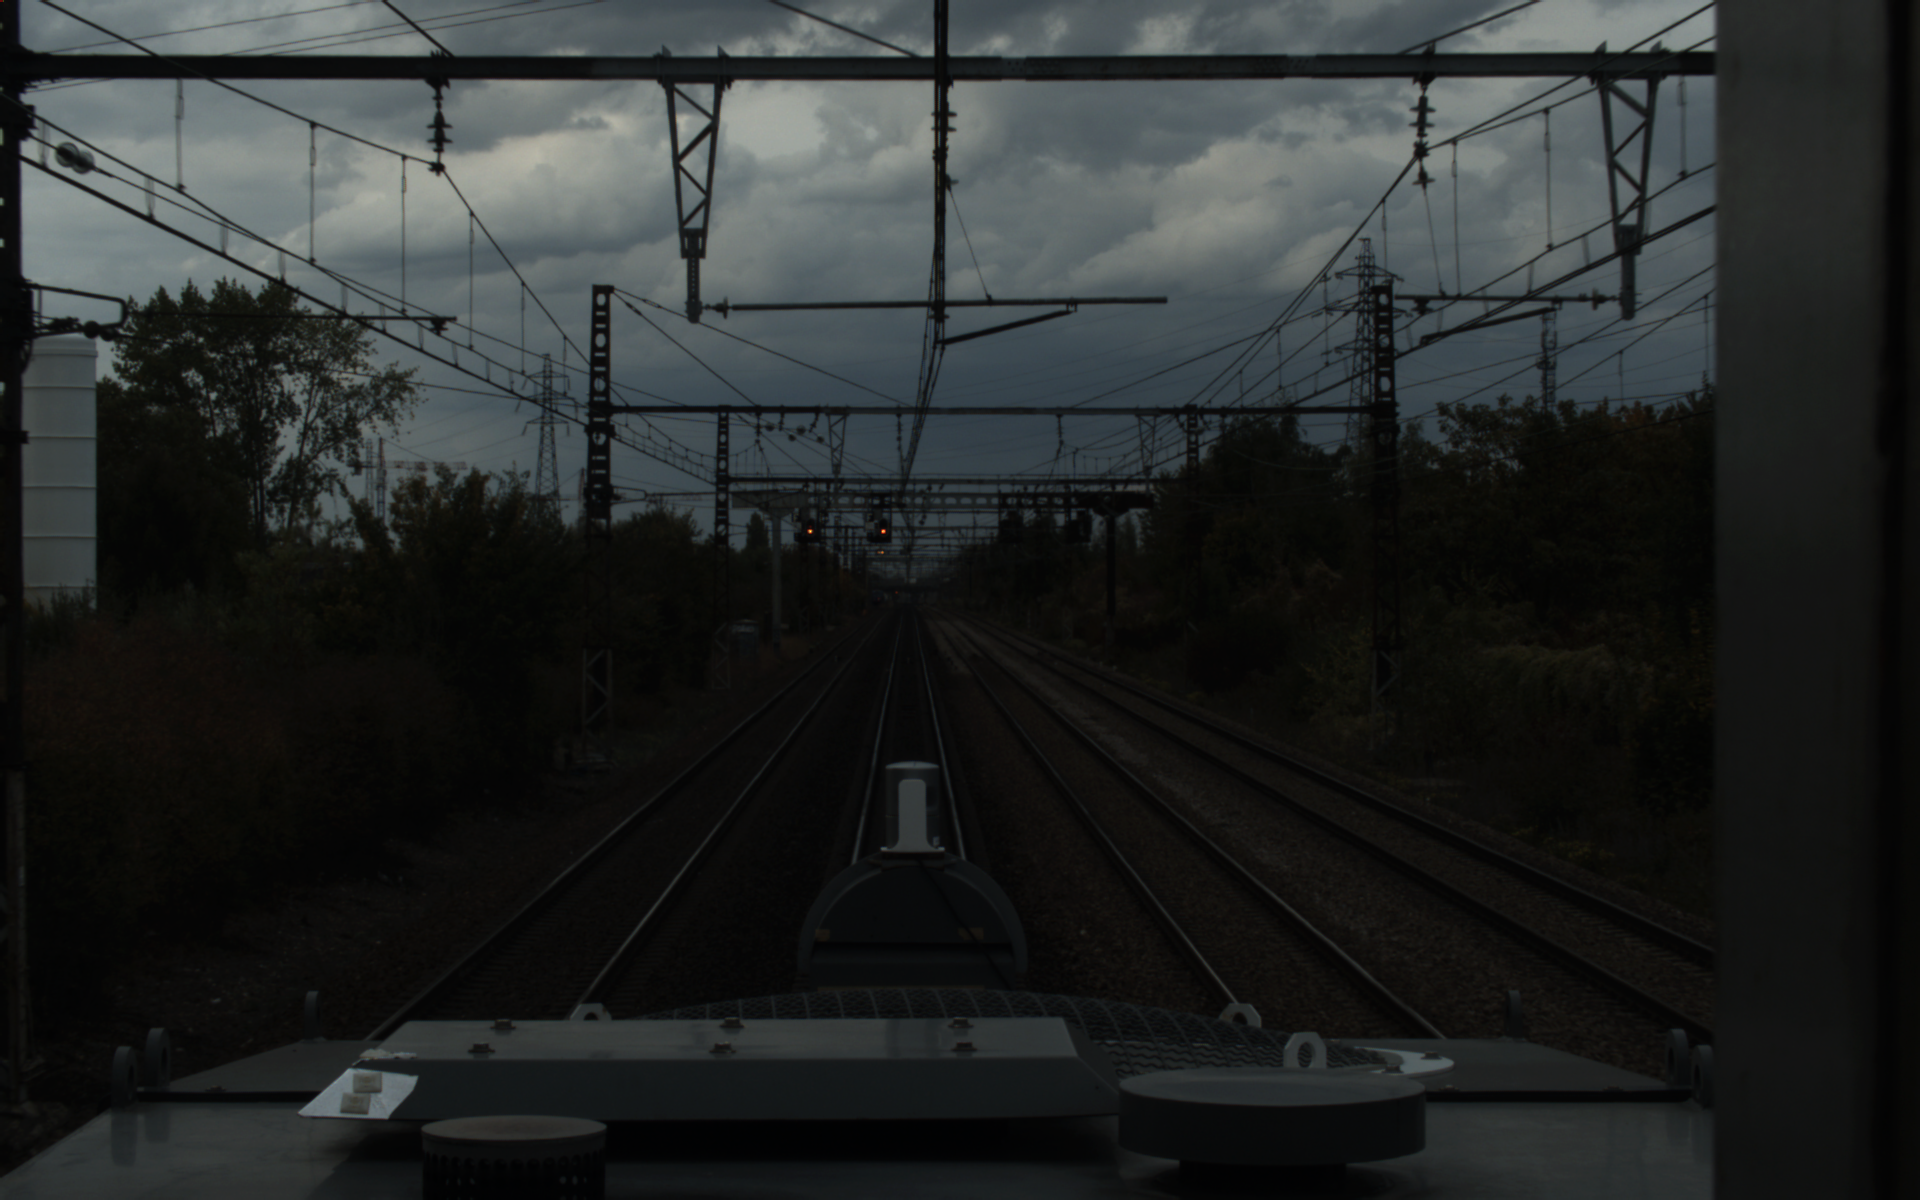Blinking: (802, 516, 817, 536), (876, 516, 890, 538)
